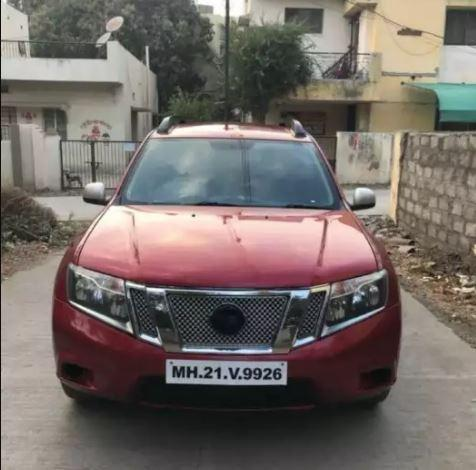licence-plate: (165, 356, 286, 383)
